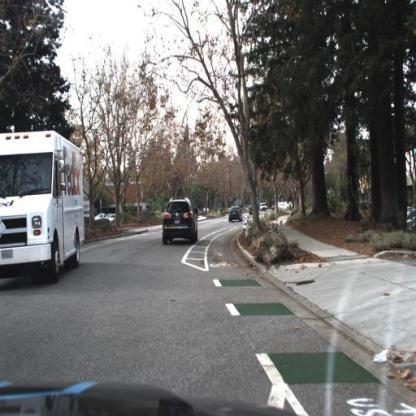car: (161, 196, 201, 249), (228, 205, 244, 224), (250, 204, 259, 217), (109, 212, 117, 223)
truck: (1, 130, 87, 287)
